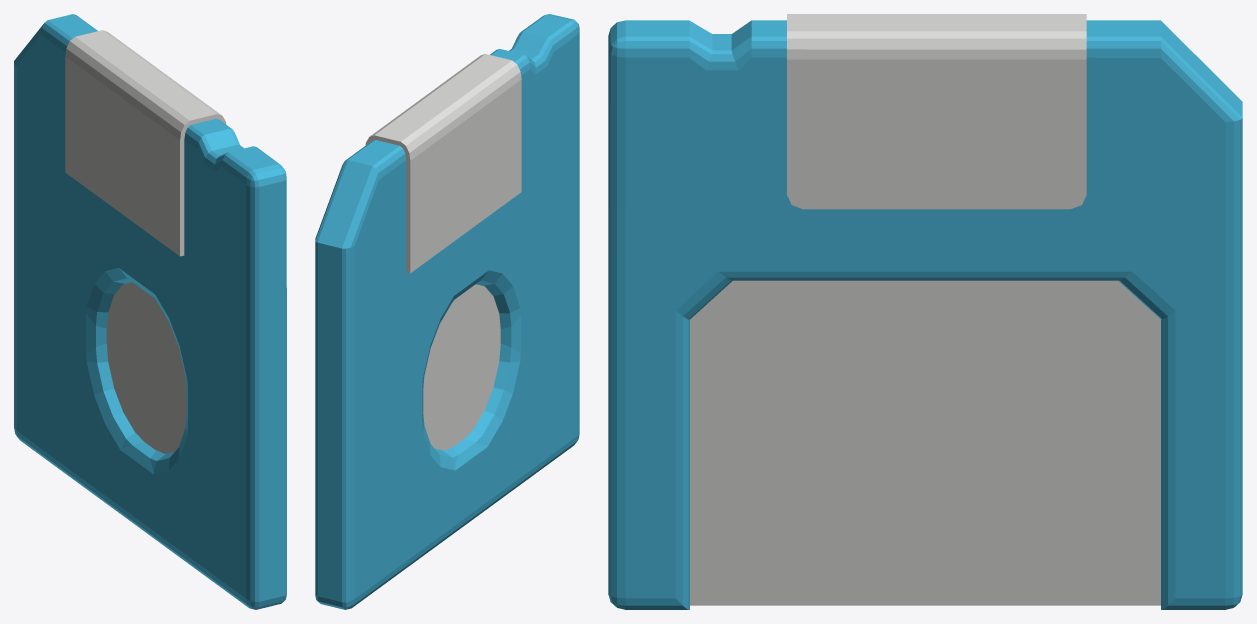
File: floppyDisk.glb
3 renders of one model, left to right at view 1: azimuth 30°, elevation 25°; view 2: azimuth 150°, elevation 25°; view 3: azimuth 270°, elevation 25°, orthographic. The views are drawn at different scales.
Parts seen in each view (by area): view 1: floppy disk.002; view 2: floppy disk.002; view 3: floppy disk.002.
Part boxes in pixels (x1,y1,x2,y2): floppy disk.002: (14,14,286,609); floppy disk.002: (315,14,579,609); floppy disk.002: (608,14,1242,609).
Bounding box in the file's own units: 0.1093 × 0.9866 × 0.9794.
